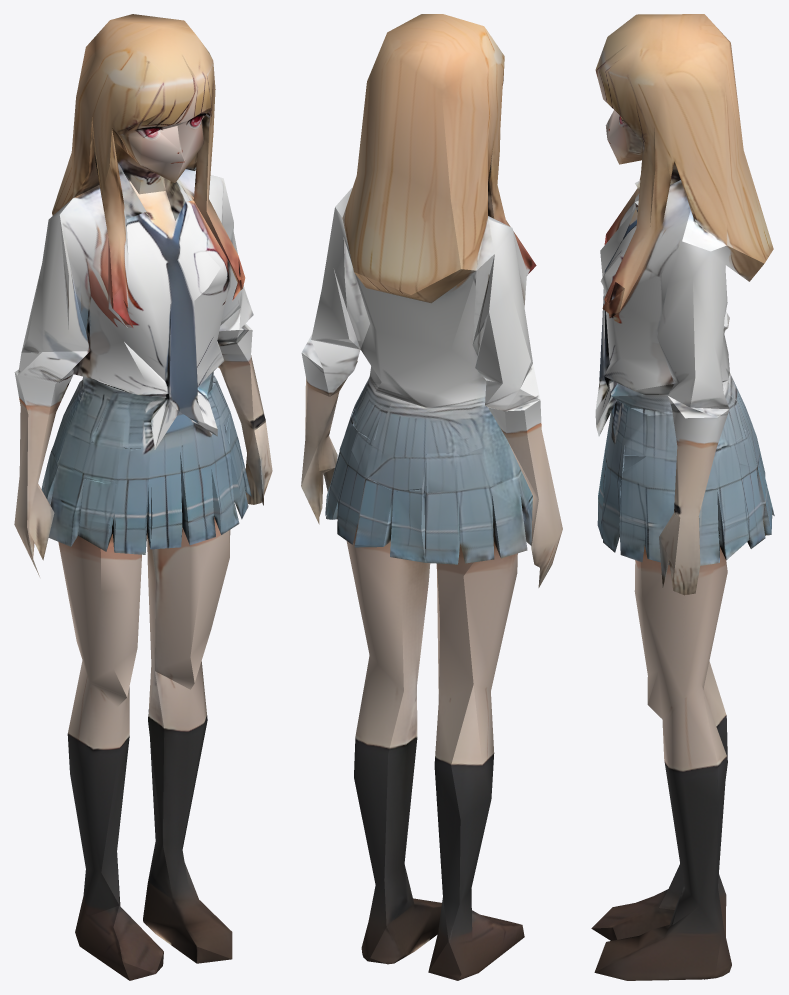
Rendered from schoolgirl.glb.
3 views of the same model, side by side, from view 1: azimuth 30°, elevation 25°; view 2: azimuth 150°, elevation 25°; view 3: azimuth 270°, elevation 25° (orthographic).
Parts seen in each view (by area): view 1: Object_2; view 2: Object_2; view 3: Object_2.
Part boxes in pixels (x1,y1,x2,y2): Object_2: (14, 14, 272, 980); Object_2: (301, 14, 562, 980); Object_2: (591, 14, 774, 980).
Bounding box in the file's own units: 0.4949 × 1.74 × 0.3095.
Materials: 1 (1 with a texture image).
